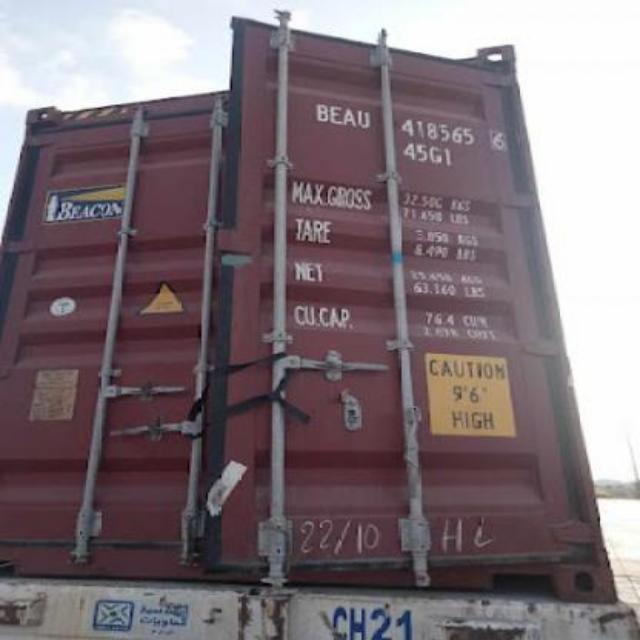1: (414, 114, 426, 144)
4: (401, 110, 414, 138)
5: (462, 122, 476, 148), (436, 118, 449, 144)
6: (486, 122, 504, 154), (450, 118, 462, 148)
8: (426, 116, 438, 142)
A: (340, 99, 356, 129)
B: (314, 94, 330, 126)
E: (330, 94, 342, 134)
U: (358, 100, 372, 138)
